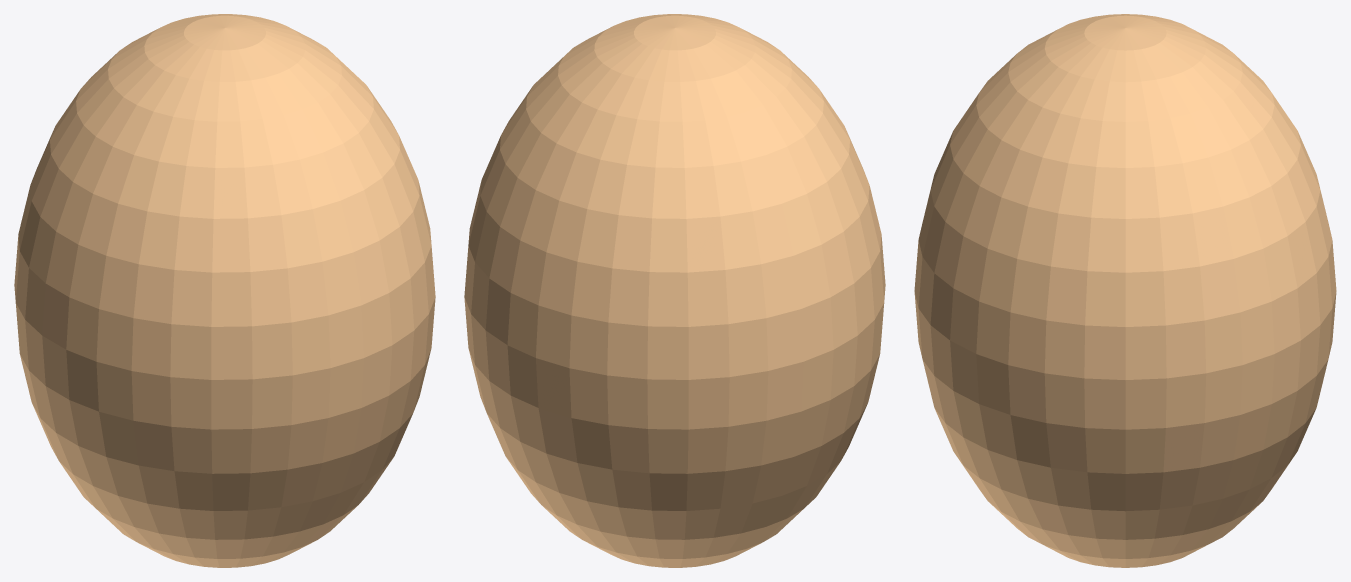
The model's file is 43c3cbf2-bf97-451b-a998-bc22a4d027b6.glb.
The picture shows the model from 3 angles, left to right: view 1: azimuth 30°, elevation 25°; view 2: azimuth 150°, elevation 25°; view 3: azimuth 270°, elevation 25°; orthographic projection.
Parts seen in each view (by area): view 1: Sphere001; view 2: Sphere001; view 3: Sphere001.
Boxes of the visible parts, left/top/right/bottom form: Sphere001: left=14, top=14, right=435, bottom=567; Sphere001: left=464, top=14, right=885, bottom=567; Sphere001: left=914, top=14, right=1336, bottom=567.
Size of the model in its own units: 1113225 by 1530218 by 1113225.
